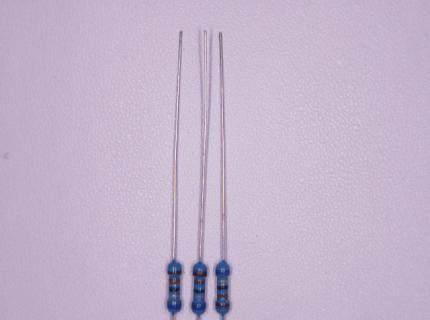Black band: (169, 287, 180, 292), (193, 289, 205, 293), (217, 286, 228, 290)
Blue band: (192, 304, 205, 310), (216, 270, 230, 275), (167, 304, 180, 309)
Brown band: (193, 272, 207, 277), (216, 302, 229, 307), (168, 271, 181, 274)
Grey band: (217, 280, 228, 284), (194, 295, 204, 299), (169, 294, 179, 298)
Orange band: (169, 278, 180, 284), (217, 294, 228, 299), (194, 280, 205, 284)
